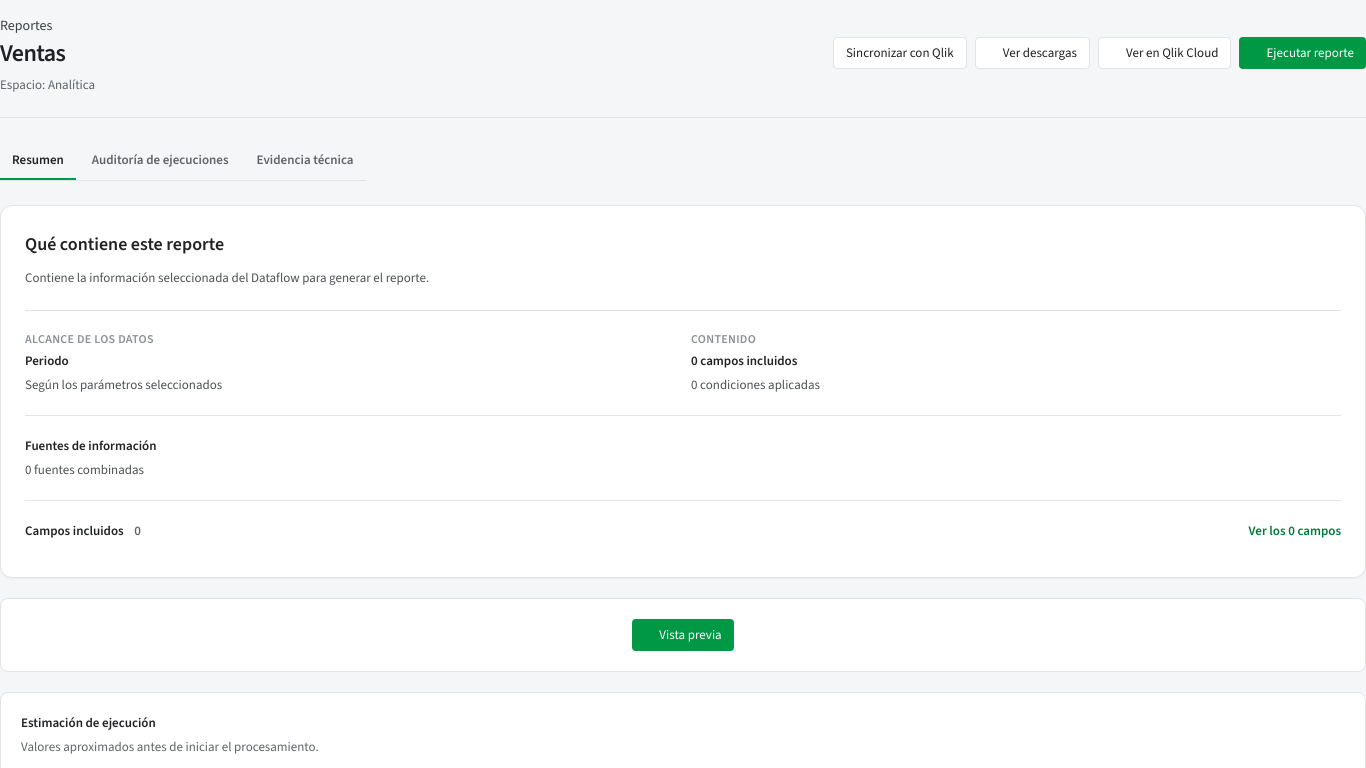
centra la confirmación de ejecución como overlay de pantalla completa
What coordinates should you click on to do the following:
click the button "Ejecutar reporte"
I would click on:
 (1303, 53)
Its box is x1=1239 y1=37 x2=1365 y2=69.
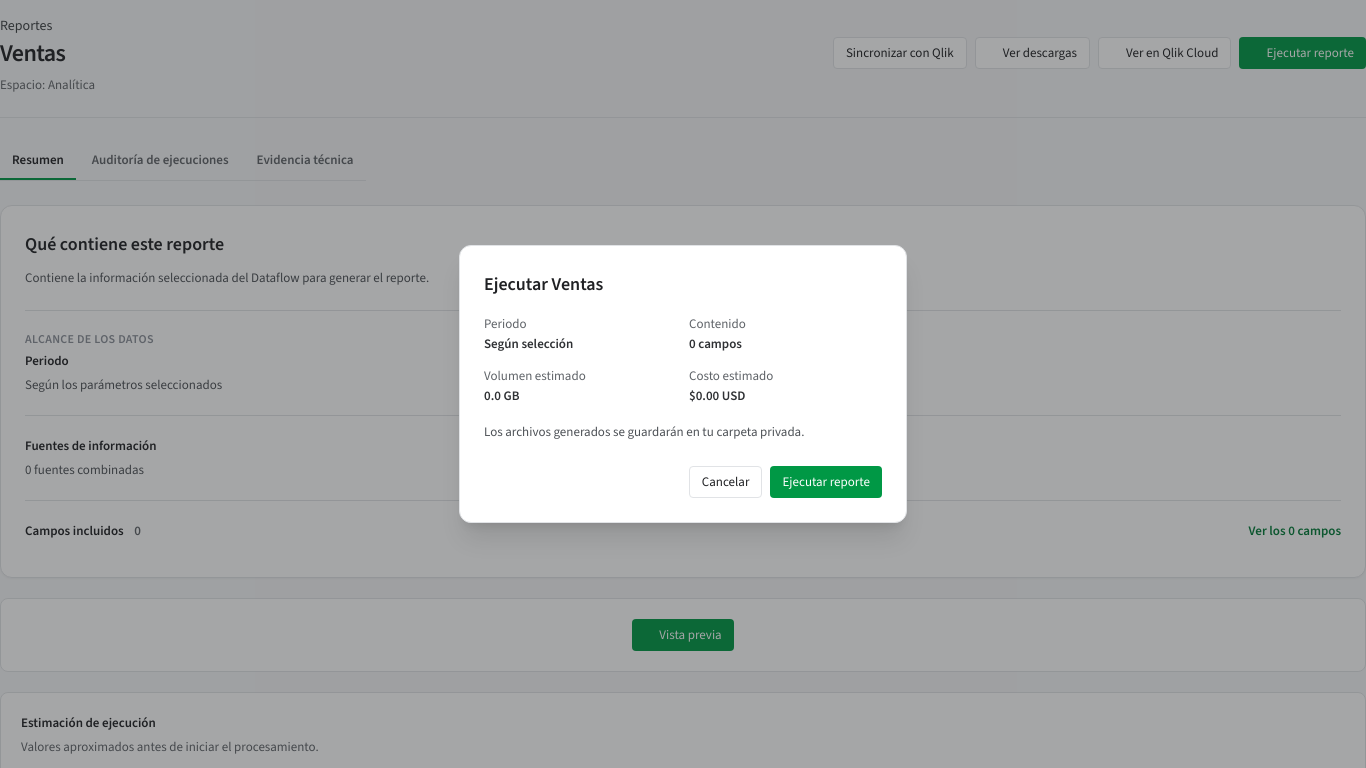
Check: the dialog is shown
